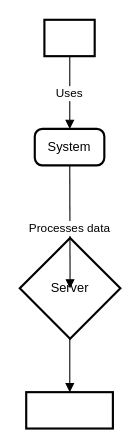
Image size: 139x447. Some labels were removed from this diagram. Here are the shapes that lost their labels. From the top down, the box of each, then its label:
(43, 18, 95, 57): User
(25, 391, 113, 429): Database
